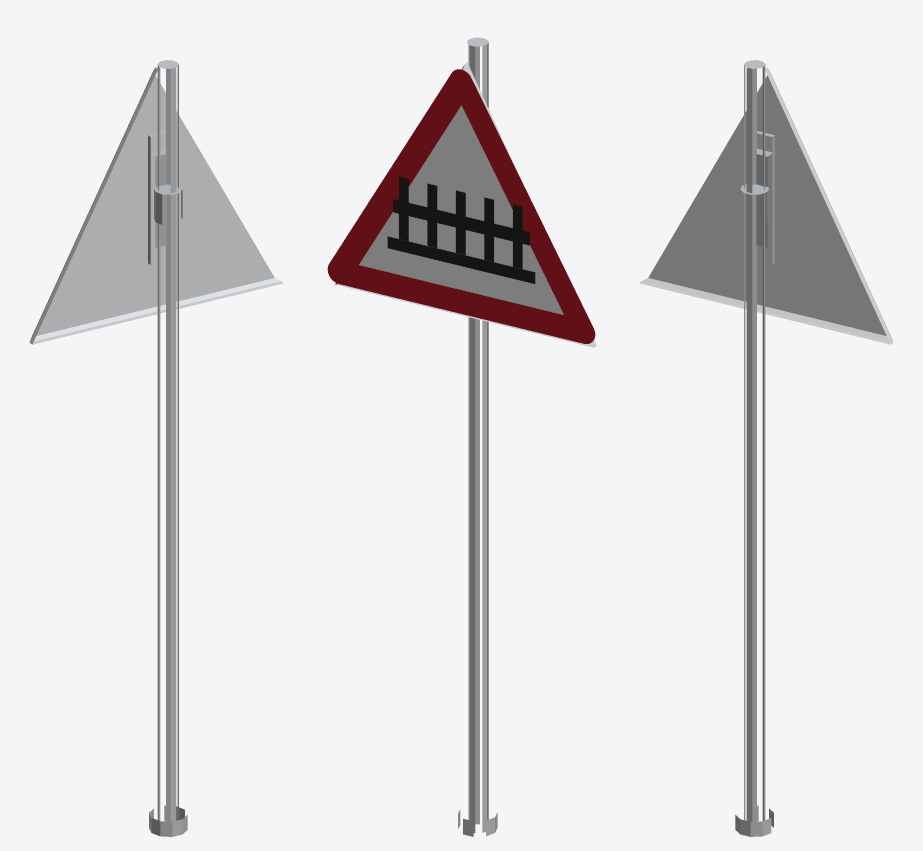
File: sign_rail_guarded.glb
3 renders of one model, left to right at view 1: azimuth 30°, elevation 25°; view 2: azimuth 150°, elevation 25°; view 3: azimuth 330°, elevation 25°, orthographic. The views are drawn at different scales.
Visible parts, largest first — view 1: sign_rail_guarded; view 2: sign_rail_guarded; view 3: sign_rail_guarded.
Boxes of the visible parts, box(x1,y1,x2,y2) form: sign_rail_guarded: box(29, 60, 283, 836); sign_rail_guarded: box(327, 37, 596, 836); sign_rail_guarded: box(639, 60, 893, 836).
Bounding box in the file's own units: 0.95 × 2.53 × 0.1488.
Materials: 5 (1 with a texture image).
